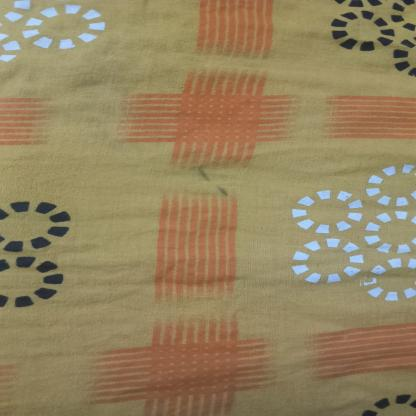spot: (192, 162, 238, 199)
